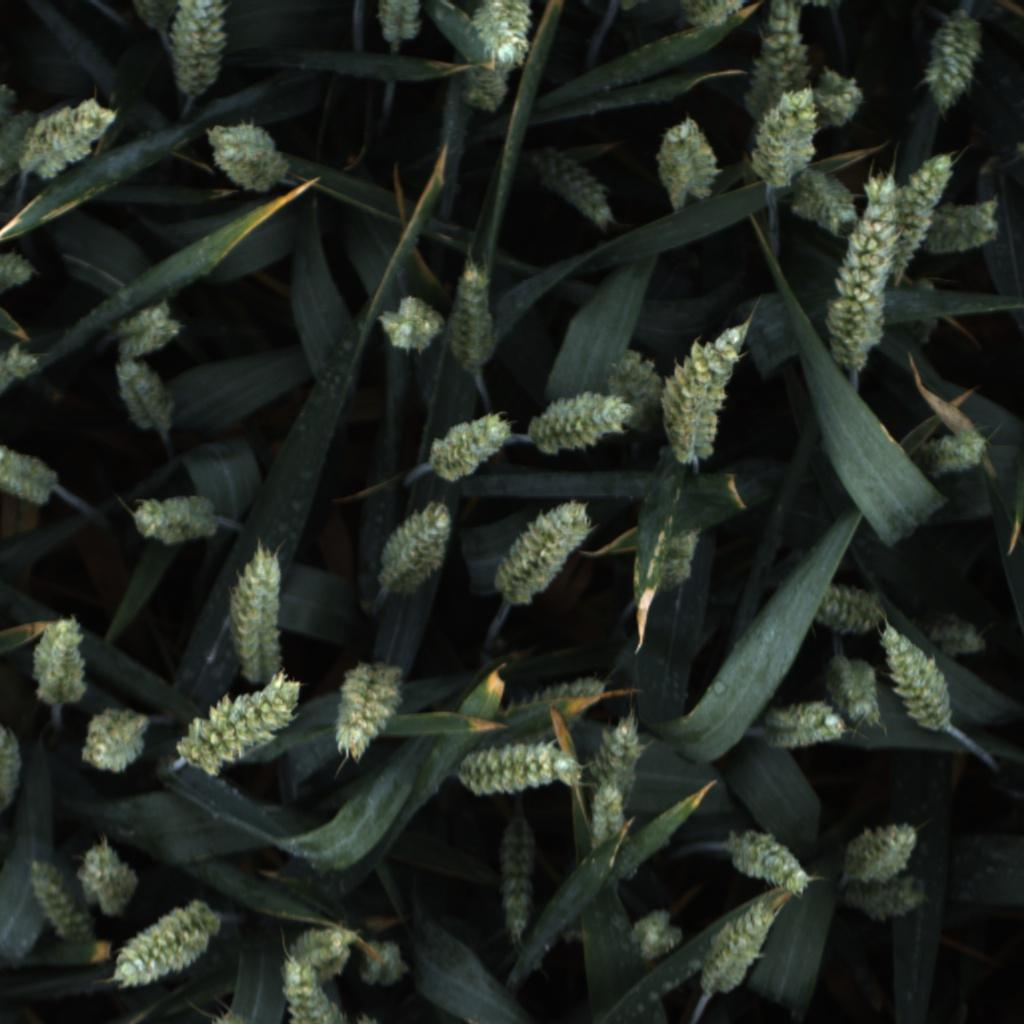0-0: (819, 166, 908, 374), (489, 496, 606, 609), (663, 323, 752, 467), (176, 676, 298, 776), (106, 898, 224, 996), (874, 616, 962, 743), (367, 498, 459, 603), (742, 0, 816, 127), (19, 93, 118, 186), (695, 897, 783, 1000), (329, 660, 410, 766), (522, 386, 636, 456), (231, 537, 286, 682), (533, 147, 623, 235), (916, 11, 991, 115), (19, 851, 97, 950), (450, 738, 582, 796), (748, 86, 821, 188), (650, 113, 726, 210), (723, 820, 816, 899), (20, 610, 94, 708), (424, 404, 516, 482), (203, 117, 293, 196), (494, 817, 546, 952), (440, 263, 503, 372), (165, 0, 230, 103), (900, 145, 958, 254), (830, 817, 924, 882), (131, 486, 224, 547), (71, 831, 141, 912), (75, 706, 153, 778), (107, 291, 186, 362), (115, 358, 182, 438), (789, 169, 865, 239), (276, 953, 349, 1024), (908, 424, 996, 482), (756, 697, 847, 753), (930, 191, 1005, 258), (0, 435, 61, 516), (604, 342, 666, 420), (838, 876, 934, 926), (820, 577, 896, 640), (823, 652, 884, 730), (371, 291, 441, 355), (591, 708, 648, 786), (282, 918, 361, 971), (645, 521, 703, 591), (476, 2, 535, 70), (583, 779, 638, 851), (0, 330, 53, 403), (353, 931, 417, 991), (0, 109, 45, 189), (452, 64, 516, 119), (815, 63, 866, 129), (626, 906, 682, 964), (0, 721, 31, 817), (918, 619, 989, 658), (375, 0, 426, 45), (0, 241, 39, 299), (679, 0, 747, 33), (132, 0, 181, 41), (0, 82, 18, 126)
